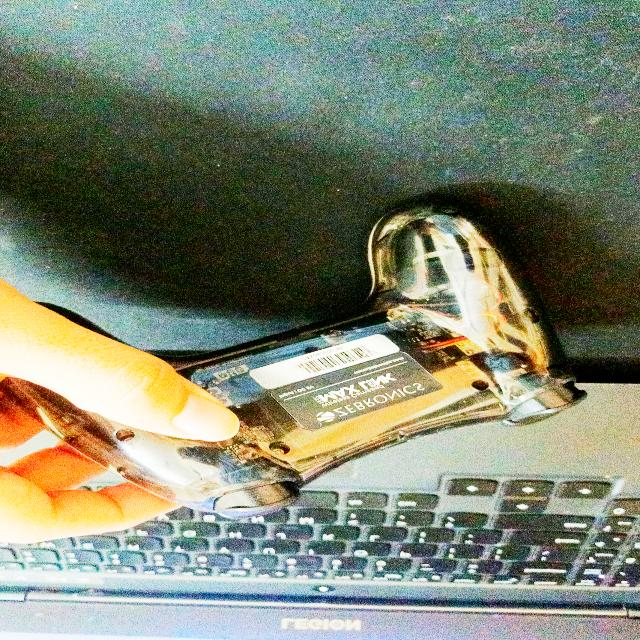gamepad: (0, 200, 588, 519)
